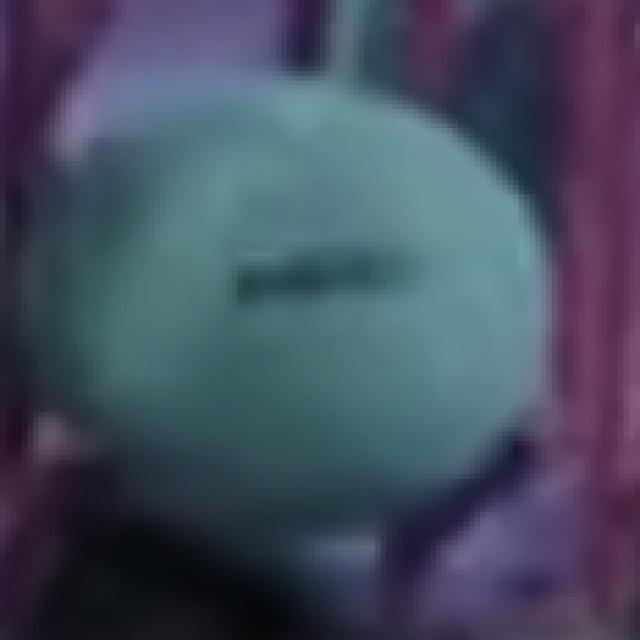Algae: (24, 69, 556, 545), (325, 1, 558, 167)
Reef: (406, 426, 556, 556), (20, 442, 109, 556)
